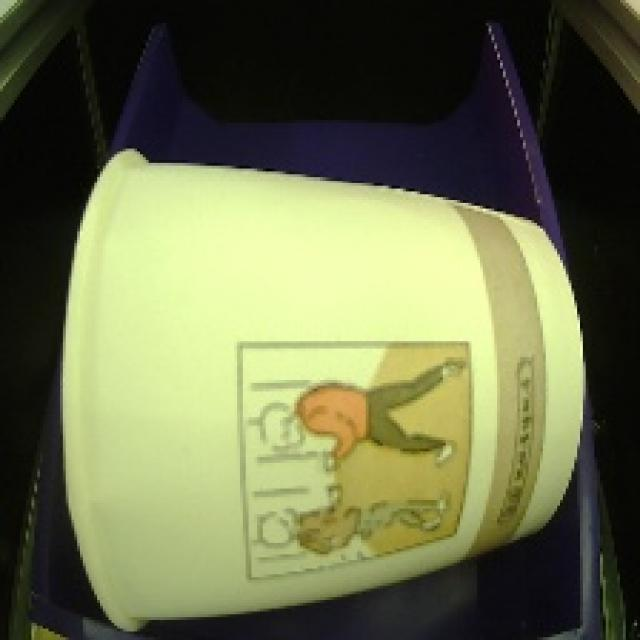cups: (45, 133, 596, 640)
